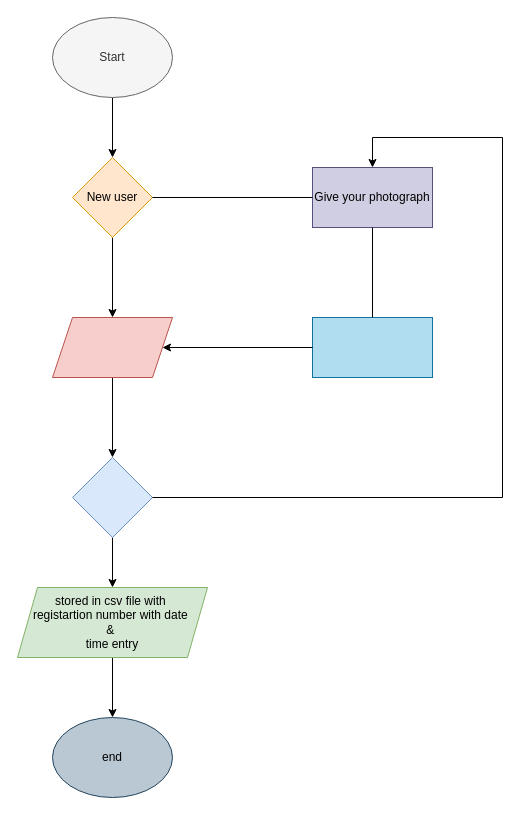
The diagram is 521 pixels wide and 815 high, and some of its shapes have lost their labels. The centre of each missing label's shape, as x and y in pixels:
face recognized: [112,497]
Recognize the face: [112,347]
store the face data in folder on your name: [372,347]
